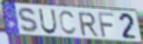2: (117, 12, 140, 41)
C: (58, 10, 78, 37)
F: (97, 11, 116, 39)
R: (77, 12, 100, 37)
S: (17, 7, 41, 35)
U: (38, 8, 58, 35)
